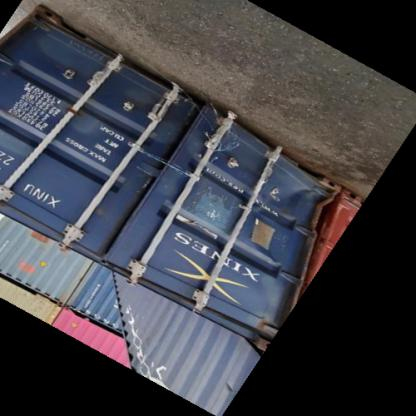Damage: (272, 177, 332, 235), (12, 34, 86, 77), (192, 113, 240, 174), (184, 186, 248, 228), (127, 88, 175, 118), (94, 207, 115, 230)
